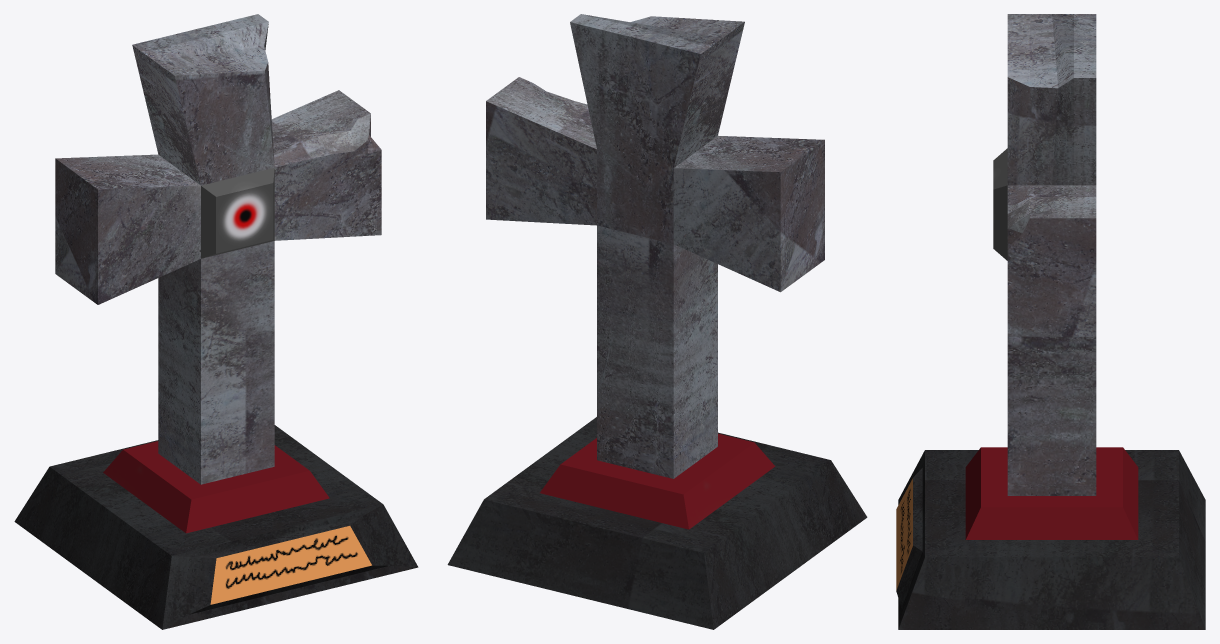
Rendered from tombstone.fbx.
3 renders of one model, left to right at view 1: azimuth 30°, elevation 25°; view 2: azimuth 150°, elevation 25°; view 3: azimuth 270°, elevation 25°, orthographic. The views are drawn at different scales.
Parts seen in each view (by area): view 1: Cube; view 2: Cube; view 3: Cube.
Boxes of the visible parts, <box> form: Cube: <box>14,14,418,629</box>; Cube: <box>447,14,867,629</box>; Cube: <box>896,14,1205,629</box>.
Bounding box in the file's own units: 221 × 373 × 201.
